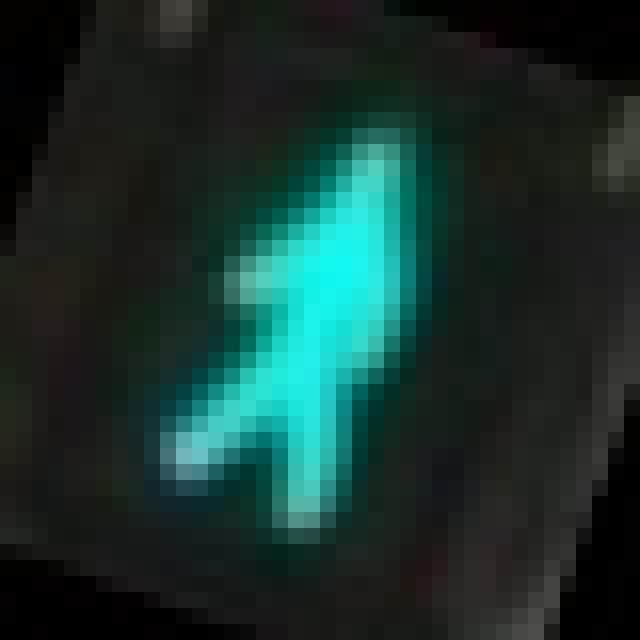green_light: (112, 64, 464, 544)
